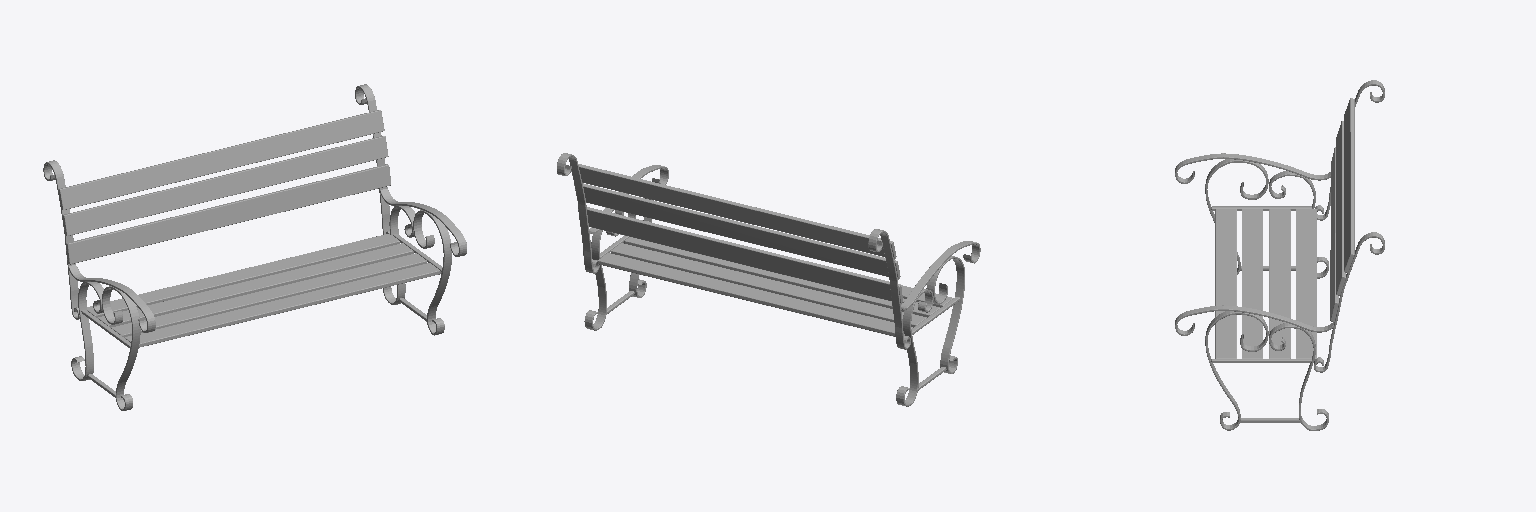
The model's file is bench.obj.
3 renders of one model, left to right at view 1: azimuth 30°, elevation 25°; view 2: azimuth 150°, elevation 25°; view 3: azimuth 270°, elevation 25°, orthographic.
Parts seen in each view (by area): view 1: Bench__Park; view 2: Bench__Park; view 3: Bench__Park.
Part boxes in pixels (x1,y1,x2,y2): Bench__Park: (43, 84, 466, 410); Bench__Park: (557, 153, 980, 406); Bench__Park: (1175, 80, 1384, 430).
Bounding box in the file's own units: 2.32 × 1.35 × 1.31.